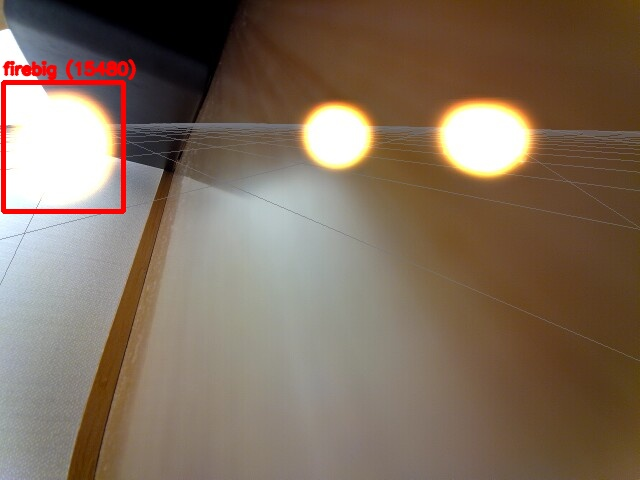firebig: (3, 82, 123, 211)
